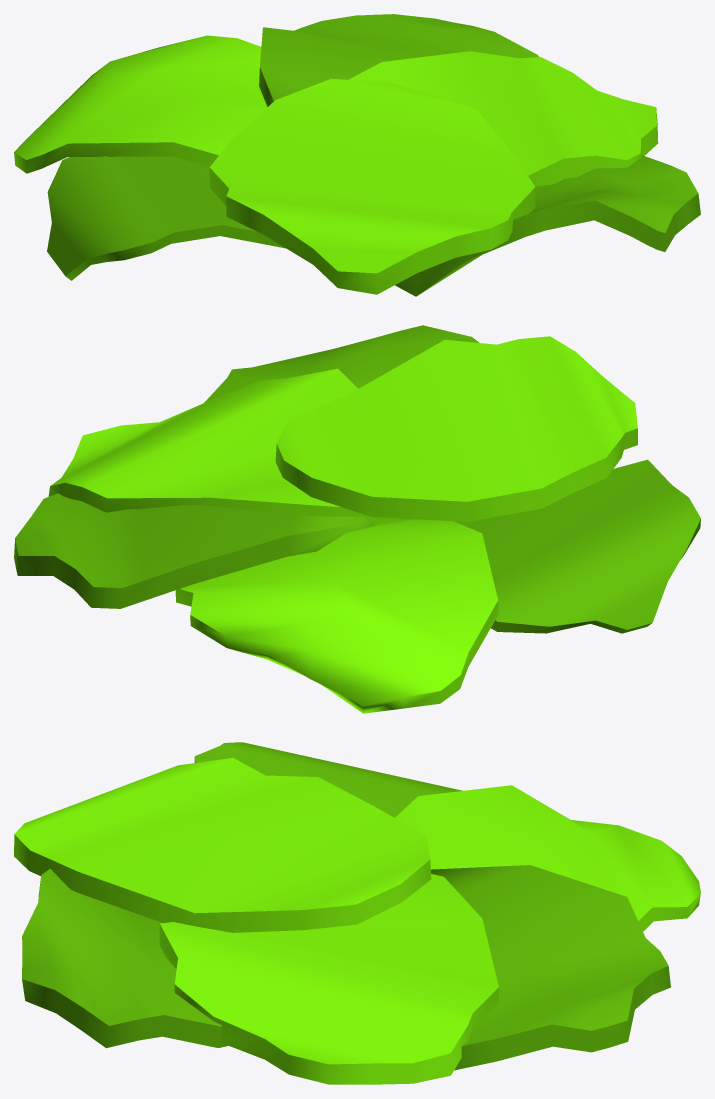
File: SM_Lettuce_CB.fbx
3 renders of one model, top to bottom at view 1: azimuth 30°, elevation 25°; view 2: azimuth 150°, elevation 25°; view 3: azimuth 270°, elevation 25°, orthographic. The views are drawn at different scales.
Parts seen in each view (by area): view 1: Lettuce_Cucumber_Plate.001; view 2: Lettuce_Cucumber_Plate.001; view 3: Lettuce_Cucumber_Plate.001.
Boxes of the visible parts, x1,y1,x2,y2 form: Lettuce_Cucumber_Plate.001: (14,14,700,296); Lettuce_Cucumber_Plate.001: (14,325,700,713); Lettuce_Cucumber_Plate.001: (14,742,700,1084).
Bounding box in the file's own units: 96.68 × 18.33 × 94.48.
